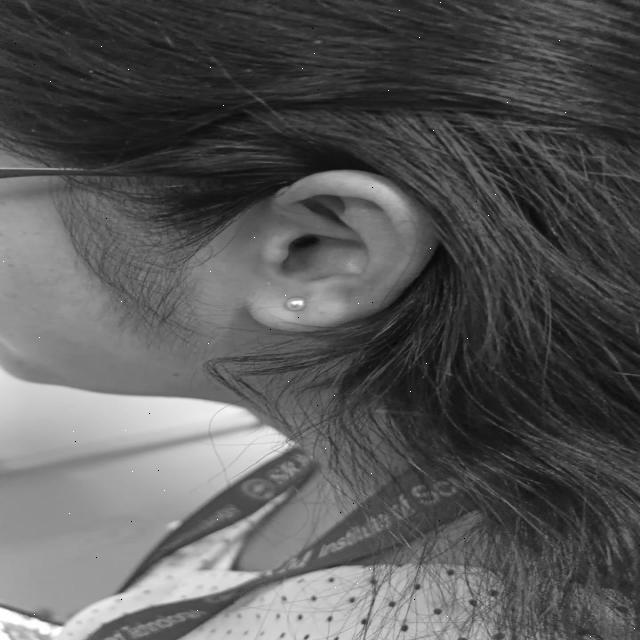ear: (246, 170, 437, 332)
